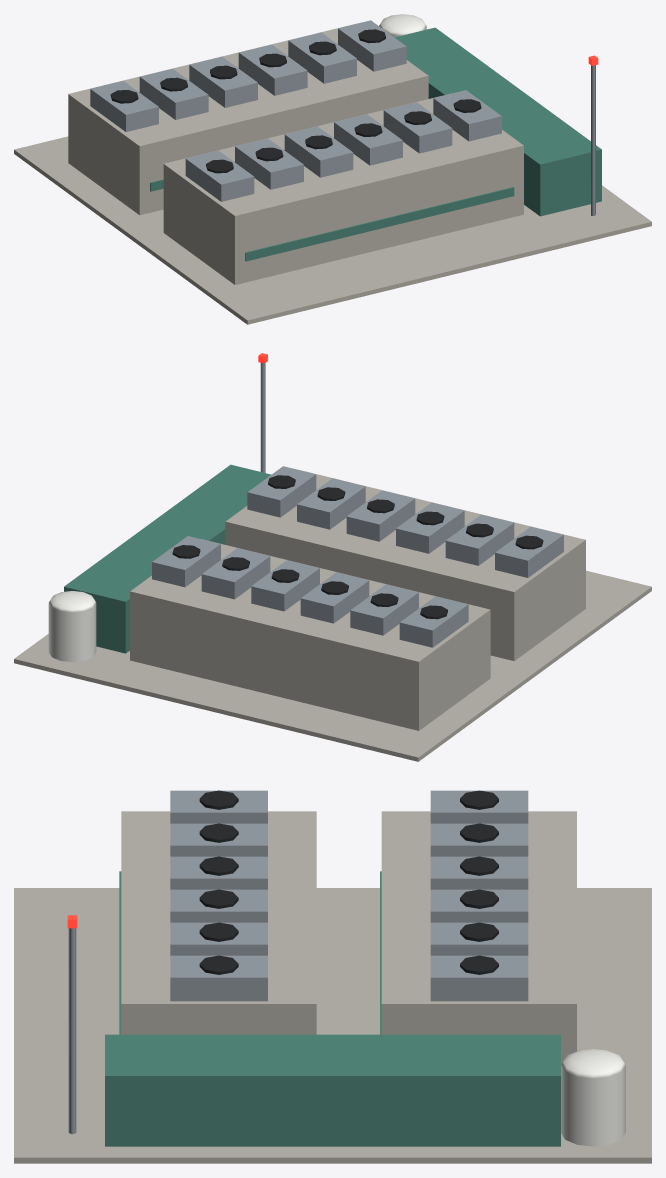
File: building_pusat_data.glb
The picture shows the model from 3 angles, top to bottom: view 1: azimuth 30°, elevation 25°; view 2: azimuth 150°, elevation 25°; view 3: azimuth 270°, elevation 25°; orthographic projection. The views are drawn at different scales.
Visible parts, largest first — view 1: building_pusat_data; view 2: building_pusat_data; view 3: building_pusat_data.
Boxes of the visible parts, x1,y1,x2,y2 form: building_pusat_data: [14, 14, 651, 324]; building_pusat_data: [14, 353, 651, 761]; building_pusat_data: [14, 790, 651, 1163].
Size of the model in its own units: 1.96 by 0.75 by 1.96.
